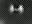person: (16, 5, 25, 16), (10, 5, 16, 15)
